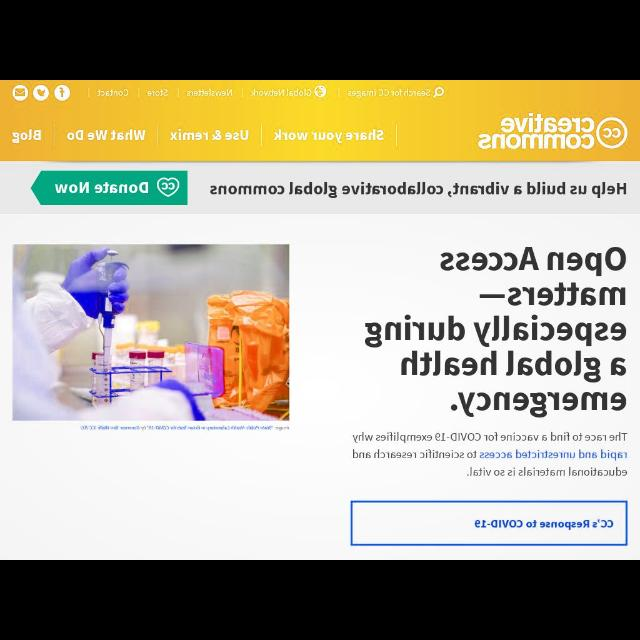icon: (316, 85, 326, 96), (434, 87, 444, 97)
image: (12, 245, 290, 421), (478, 116, 628, 152), (158, 178, 178, 196), (34, 84, 48, 100), (56, 86, 70, 100), (14, 86, 28, 100)
text: (364, 246, 624, 418), (352, 432, 626, 480), (210, 182, 630, 196), (474, 518, 614, 532), (274, 128, 384, 142), (55, 180, 148, 196), (80, 426, 290, 432), (68, 128, 144, 142), (170, 130, 250, 142), (348, 88, 430, 98), (250, 88, 312, 98), (12, 128, 42, 144), (188, 88, 232, 98), (96, 88, 130, 98), (148, 88, 168, 96)
textbutton: (350, 500, 628, 546)
